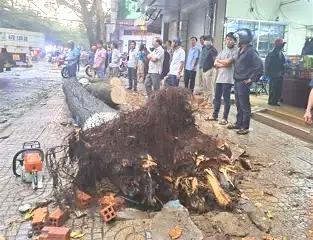ROAD_OBSTACLE: (40, 80, 260, 240)
